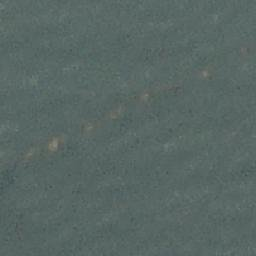debris: (47, 134, 59, 151)
